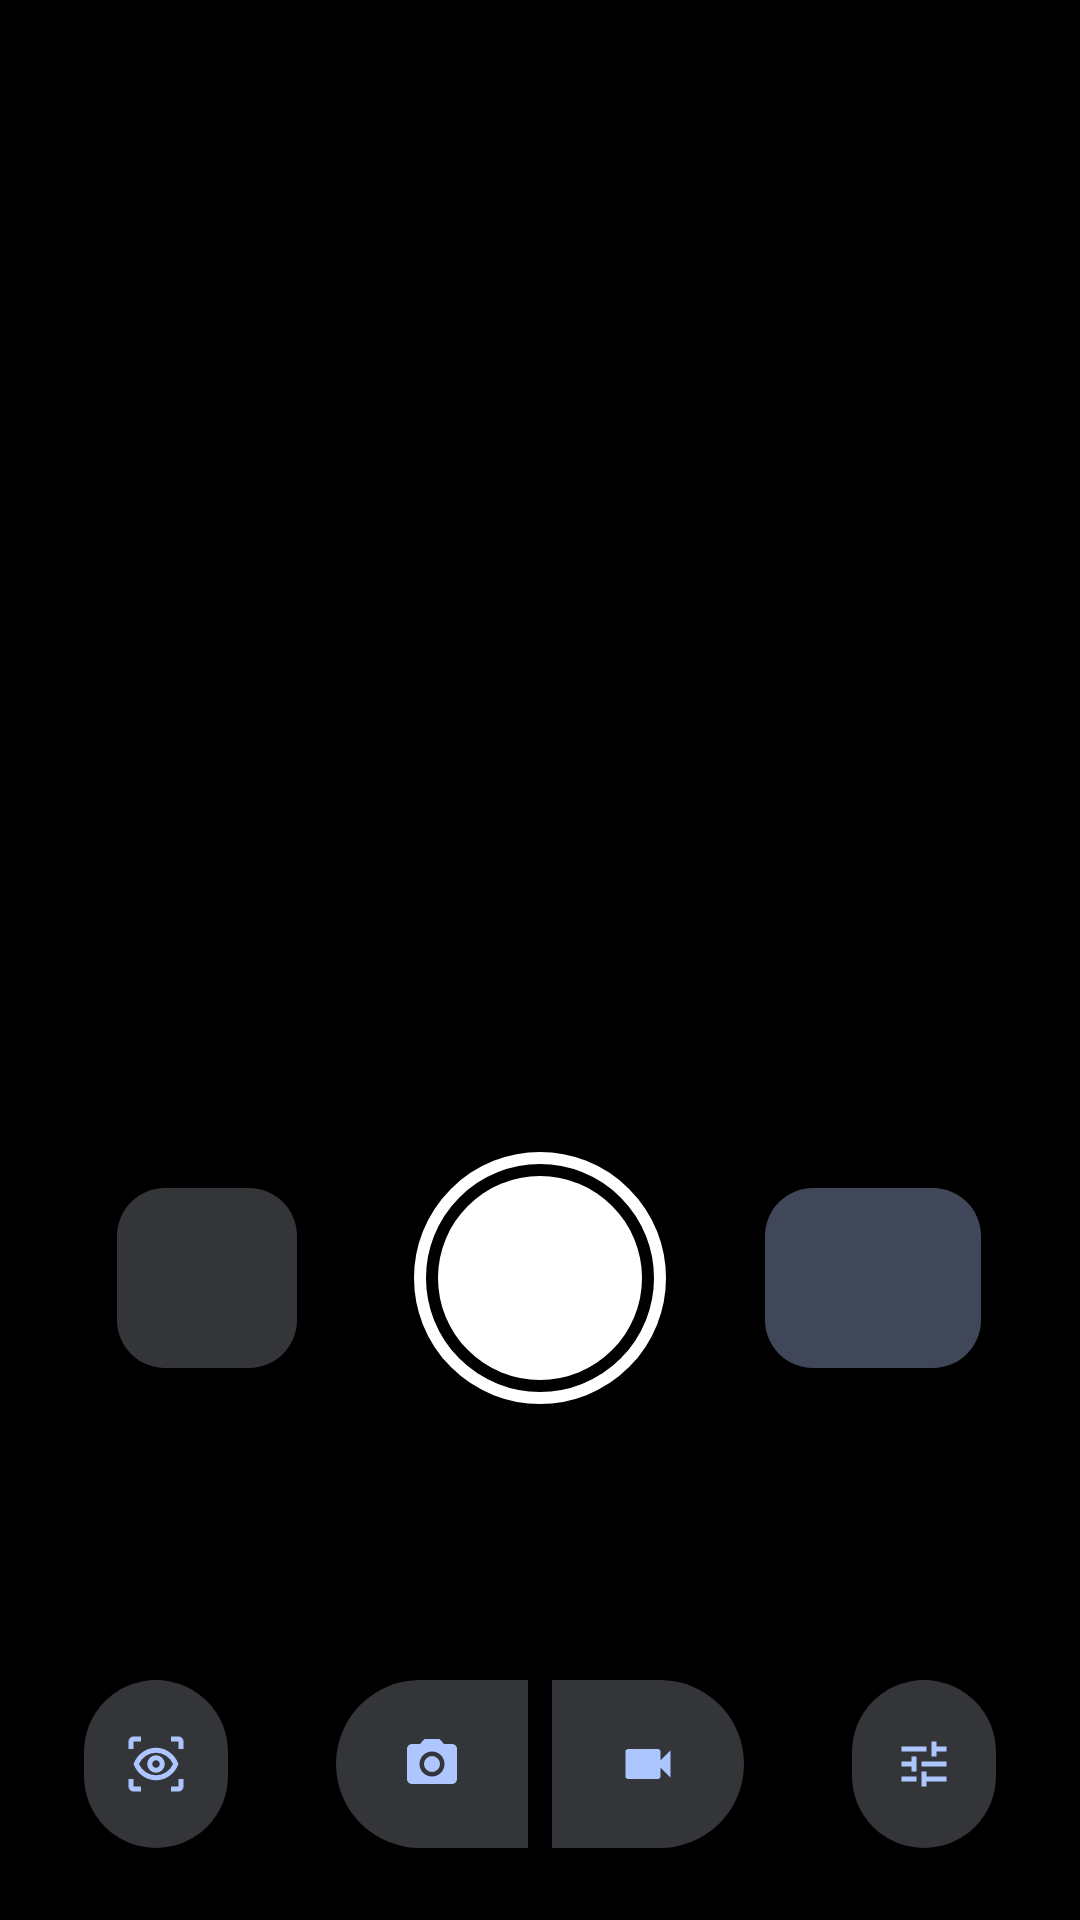

Where icons sit on this 1080*1920 app screen, as (x1, y1, x2, y2):
Eye alignment: (84, 1680, 228, 1848)
photo camera: (336, 1680, 528, 1848)
Settings: (852, 1680, 996, 1848)
Take photo: (414, 1152, 666, 1404)
Video: (552, 1680, 744, 1848)
